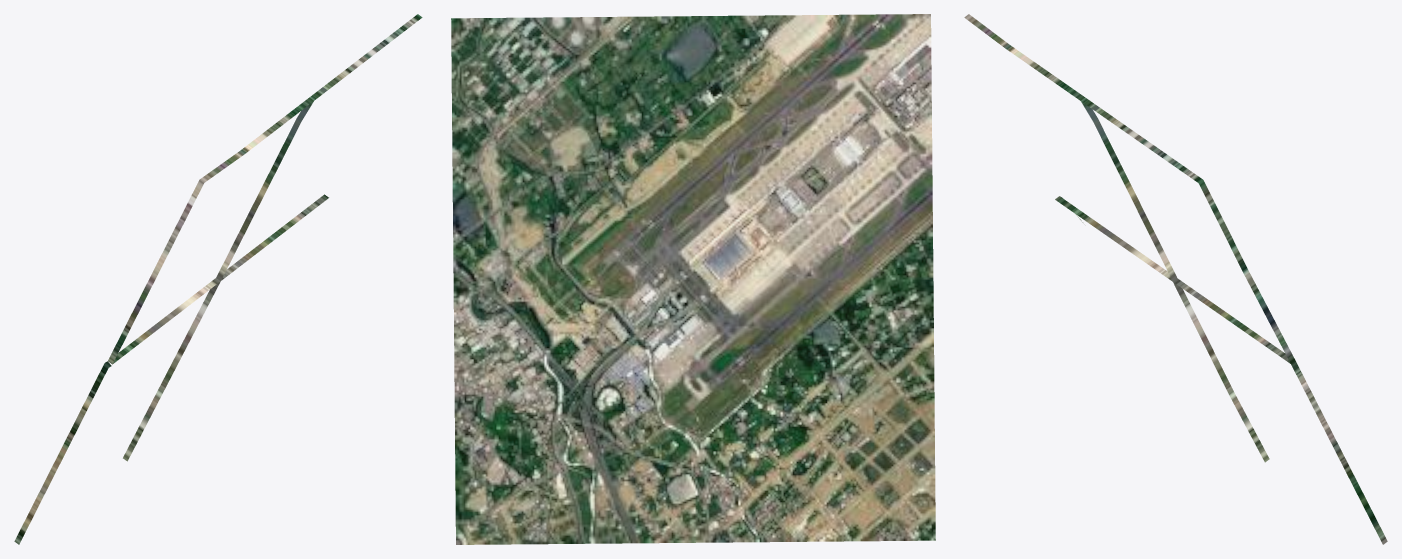
The picture shows the model from 3 angles, left to right: view 1: azimuth 30°, elevation 25°; view 2: azimuth 150°, elevation 25°; view 3: azimuth 270°, elevation 25°; orthographic projection. The views are drawn at different scales.
Size of the model in its own units: 4917 by 4434 by 4131.
Materials: 1 (1 with a texture image).
